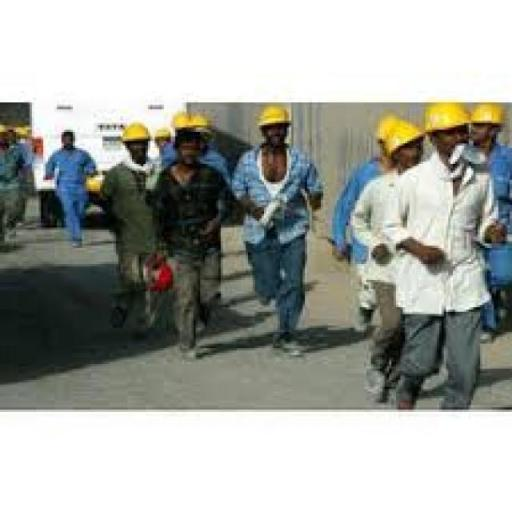helmet: (366, 108, 430, 162), (416, 96, 471, 141), (166, 104, 221, 144), (250, 98, 300, 136), (464, 98, 510, 134), (114, 116, 155, 150), (82, 175, 107, 200), (57, 124, 80, 146)
